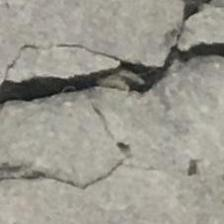Crack: (0, 0, 224, 138)
